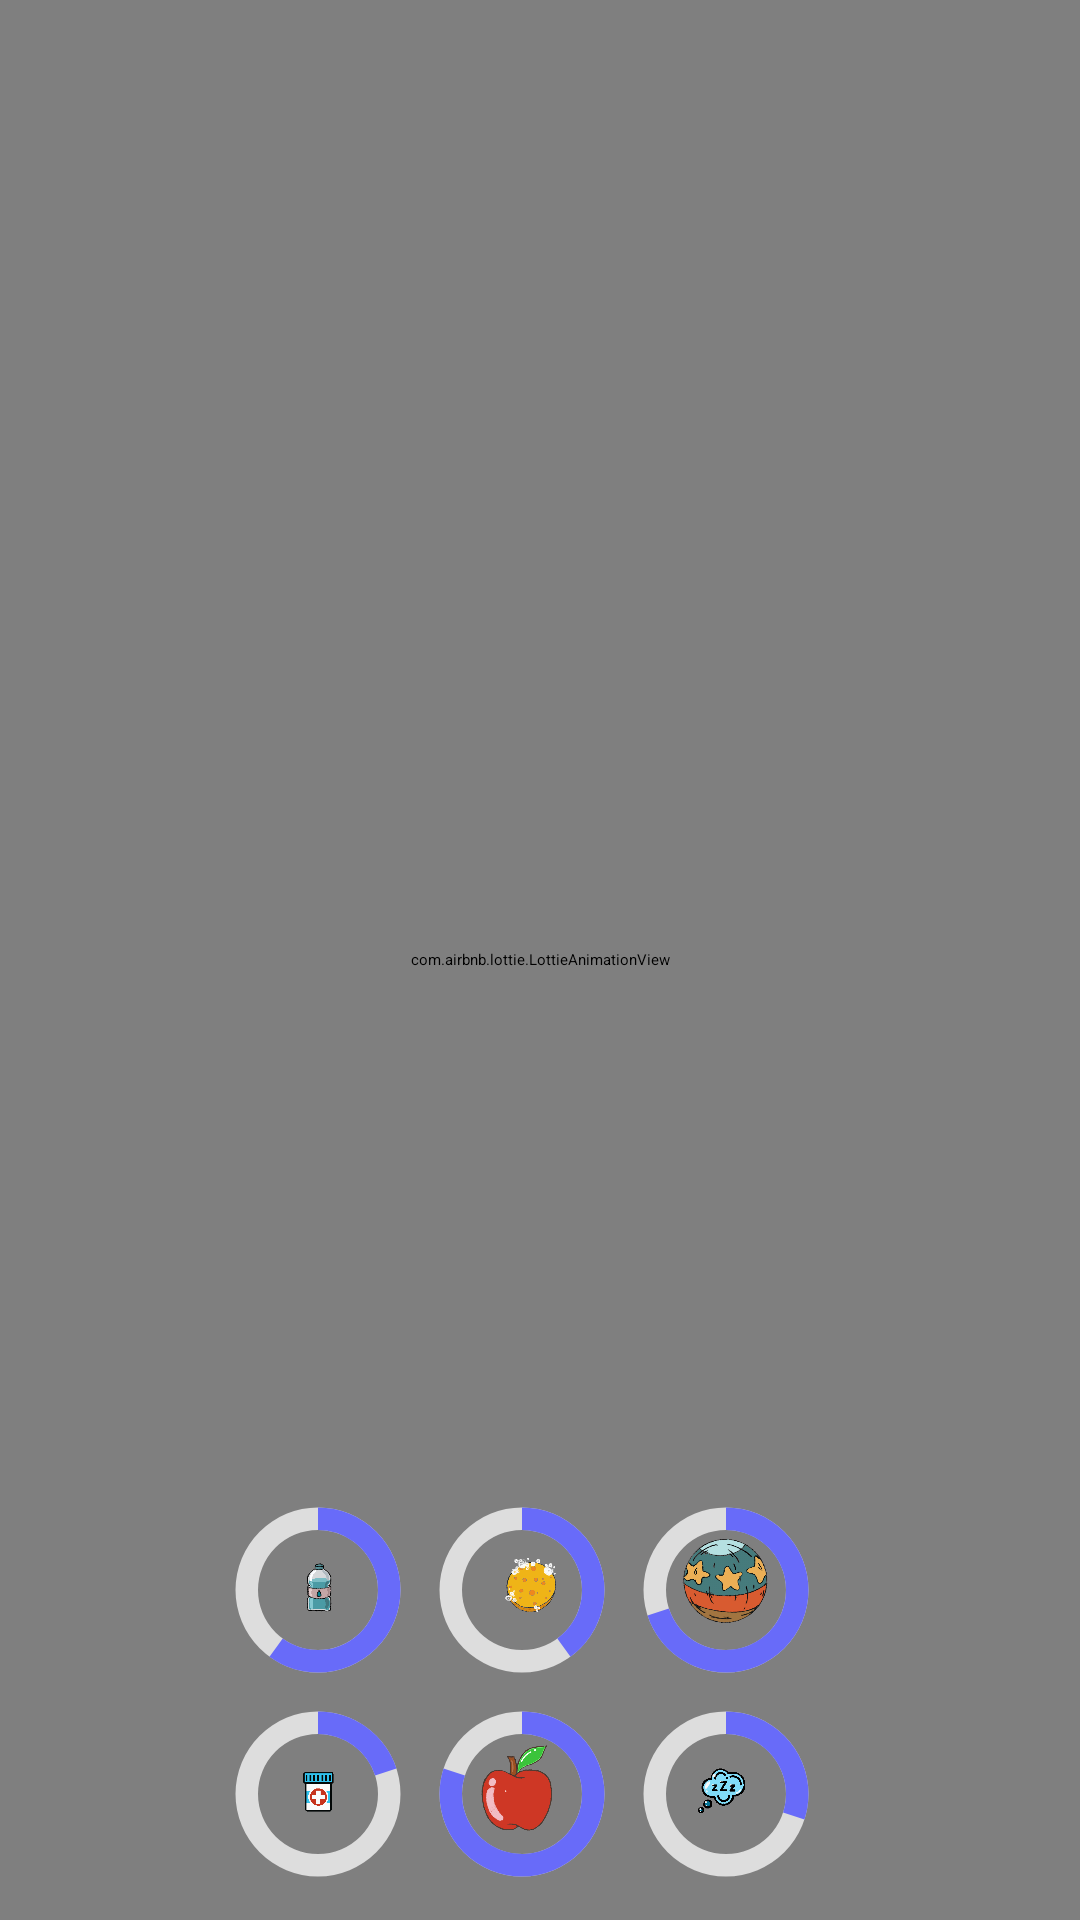

Icon click points for this 1080px×1920px phone screenshot, format point (x, y):
Jouet: point (726, 1590)
Nourriture: point (522, 1794)
